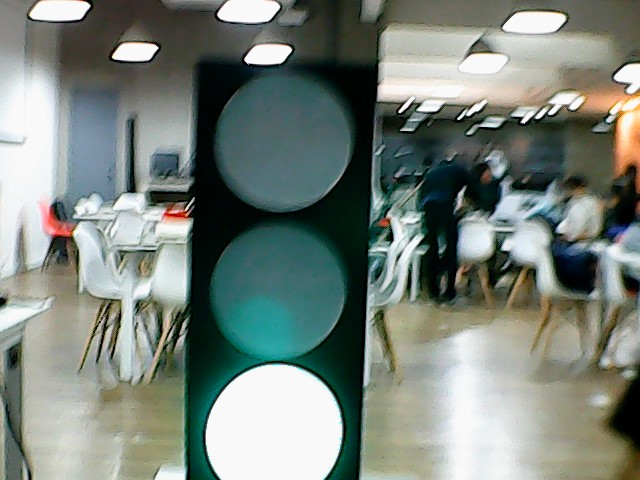verde: (172, 44, 386, 479)
